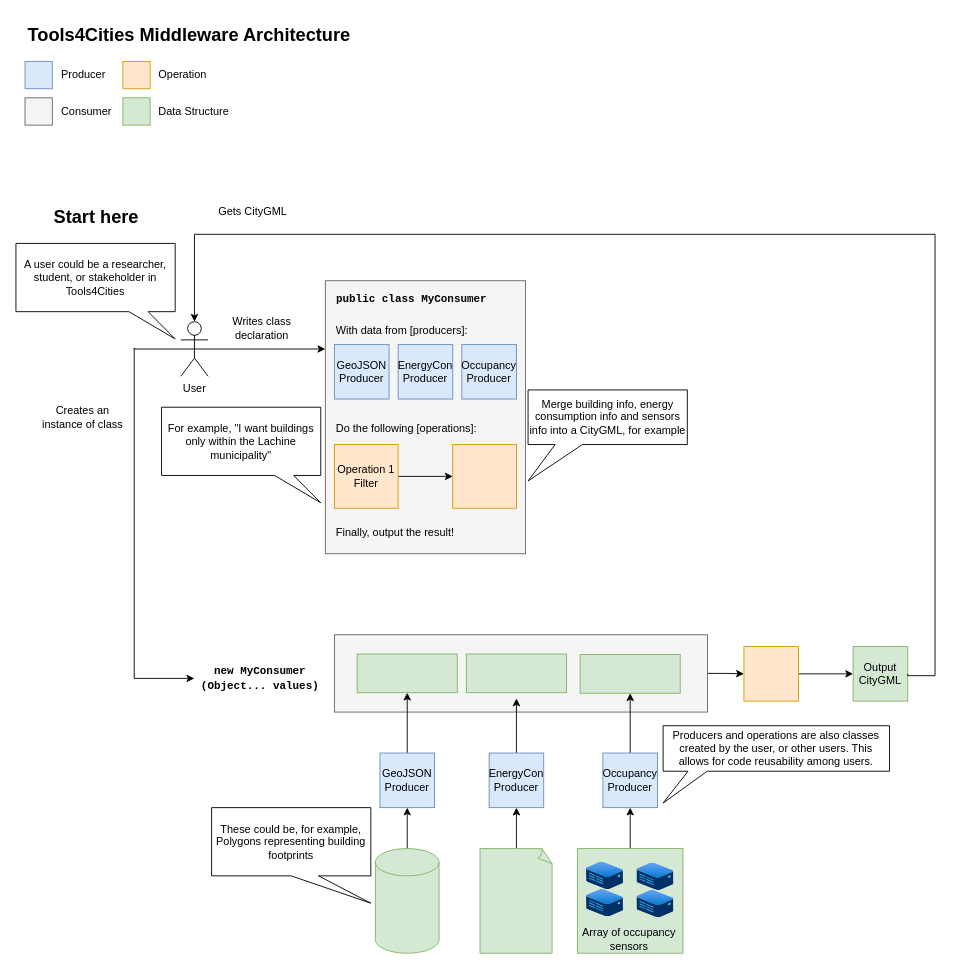
This 958x969 diagram has some shape labels left out. Here are the shapes that lost their labels. From the top down, the centre of each, then its label:
point 484,476: Operation 2 Merge
point 406,673: new JSONReader()
point 515,673: new CSVReader()
point 629,673: new ArrayList <String>()
point 771,673: Apply operations
point 406,900: GeoJSON from database
point 516,900: Energy Consumption CSV file
